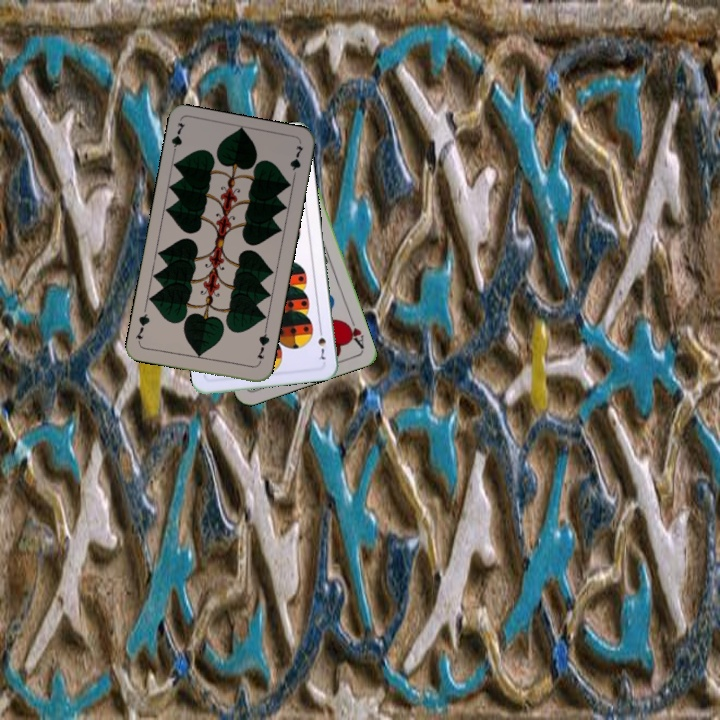G7: (252, 327, 272, 367), (167, 119, 187, 159)
HA: (341, 312, 367, 351)
S7: (314, 324, 328, 362)
